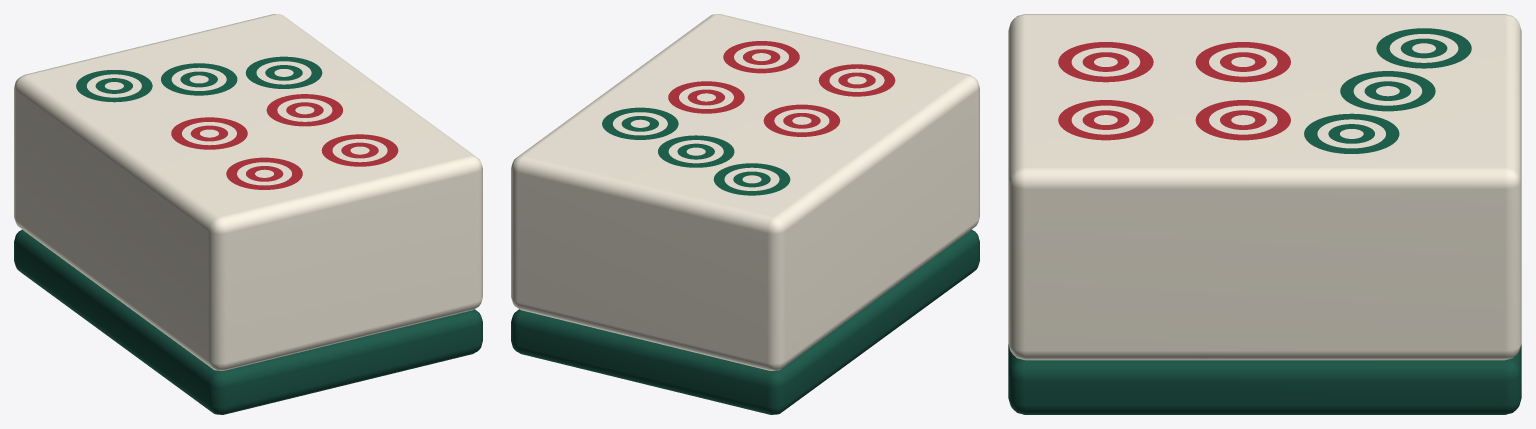
Rendered from tong-07.glb.
3 views of the same model, side by side, from view 1: azimuth 30°, elevation 25°; view 2: azimuth 150°, elevation 25°; view 3: azimuth 270°, elevation 25° (orthographic). The views are drawn at different scales.
Parts seen in each view (by area): view 1: tong-07_ivory, tong-07_back, tong-07_face_inlays; view 2: tong-07_ivory, tong-07_back, tong-07_face_inlays; view 3: tong-07_ivory, tong-07_back, tong-07_face_inlays.
Boxes of the visible parts, x1,y1,x2,y2 form: tong-07_ivory: [14, 14, 482, 370]; tong-07_back: [14, 229, 482, 414]; tong-07_face_inlays: [76, 56, 398, 189]; tong-07_ivory: [511, 14, 979, 370]; tong-07_back: [511, 229, 979, 414]; tong-07_face_inlays: [602, 41, 895, 195]; tong-07_ivory: [1008, 14, 1521, 360]; tong-07_back: [1008, 344, 1521, 414]; tong-07_face_inlays: [1058, 28, 1471, 153].
Size of the model in its own units: 0.026 by 0.018 by 0.034.
